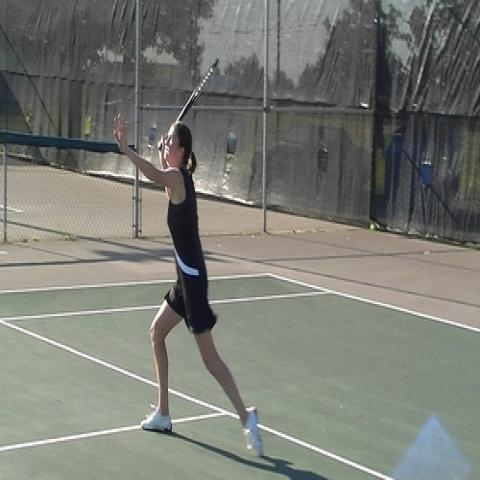car: (250, 123, 376, 188)
